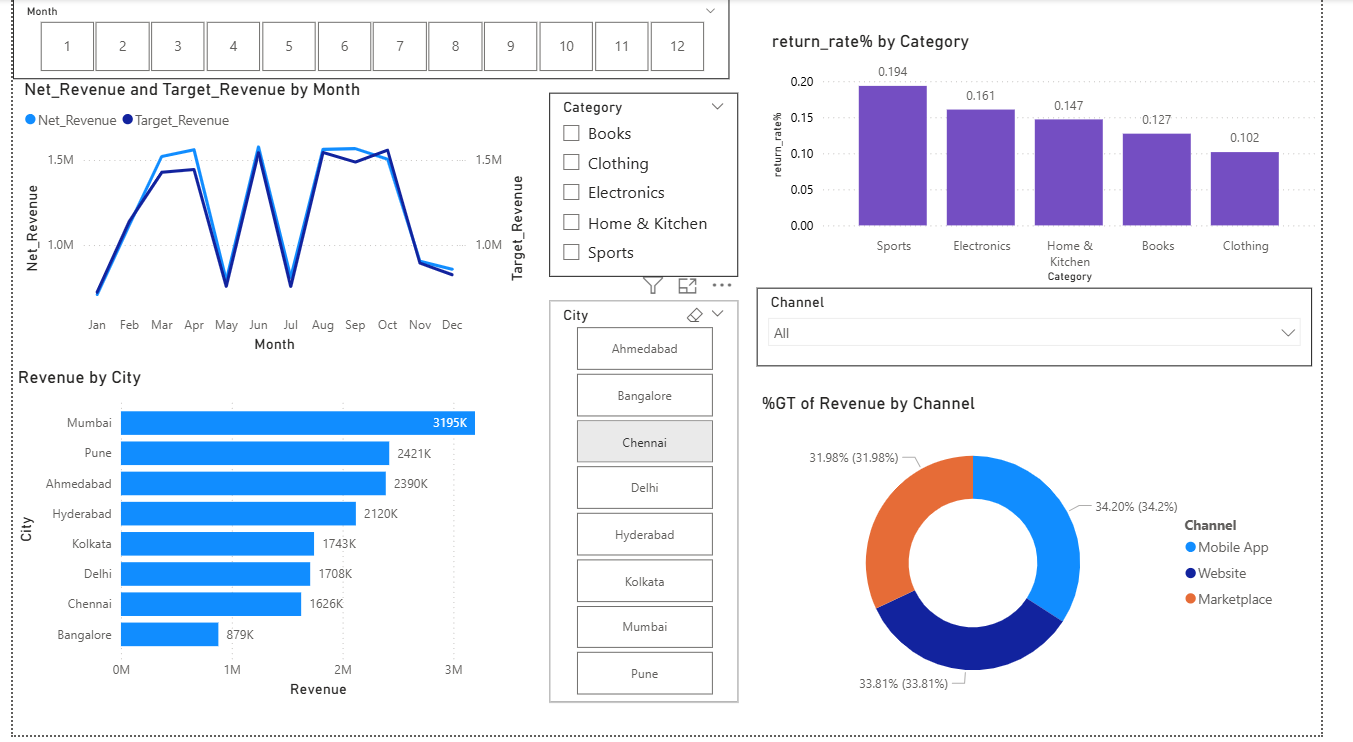

The page's visual inventory and layout, read from the dashboard file:
{"tool":"powerbi","page":{"name":"Page 1","canvas":[1280,720],"ordinal":0},"visuals":[{"type":"lineChart","fields":{"Category":["E_COMMERCE SQL.Month"],"Y":["Sum(E_COMMERCE SQL.Net_Revenue)"],"Y2":["Sum(E_COMMERCE SQL.Target_Revenue)"]},"box":[6.1,78.3,500.1,272.7],"z":0},{"type":"barChart","fields":{"Category":["E_COMMERCE SQL.City"],"Y":["Sum(E_COMMERCE SQL.Revenue)"]},"box":[0,359.5,506.3,328.9],"z":1000},{"type":"columnChart","fields":{"Category":["E_COMMERCE SQL.Category"],"Y":["E_COMMERCE SQL.return_rate%"]},"box":[737.4,30.6,542.9,251.9],"z":2000},{"type":"donutChart","fields":{"Category":["E_COMMERCE SQL.Channel"],"Y":["Sum(E_COMMERCE SQL.Revenue)"]},"box":[727.6,385.2,518.5,314.3],"z":3000},{"type":"slicer","fields":{"Values":["E_COMMERCE SQL.City"]},"box":[524.6,294.7,184.6,393.8],"z":3001},{"type":"slicer","fields":{"Values":["E_COMMERCE SQL.Category"]},"box":[524.6,91.7,184.6,179.8],"z":3002},{"type":"slicer","fields":{"Values":["E_COMMERCE SQL.Channel"]},"box":[727.6,282.5,542.9,77],"z":3003},{"type":"slicer","fields":{"Values":["E_COMMERCE SQL.Month_No"]},"box":[0,0,700.7,78.3],"z":3004}]}

Visuals, with their boxes in screenshot pixels (x1, y1, x2, y2), scaled from the page's 1280x720 canvas onto the 1353x742 screenshot:
lineChart - E_COMMERCE SQL.Month x Sum(E_COMMERCE SQL.Net_Revenue): region(6, 81, 535, 362)
barChart - E_COMMERCE SQL.City x Sum(E_COMMERCE SQL.Revenue): region(0, 370, 535, 709)
columnChart - E_COMMERCE SQL.Category x E_COMMERCE SQL.return_rate%: region(779, 32, 1352, 291)
donutChart - E_COMMERCE SQL.Channel x Sum(E_COMMERCE SQL.Revenue): region(769, 397, 1317, 721)
slicer - E_COMMERCE SQL.City: region(555, 304, 750, 710)
slicer - E_COMMERCE SQL.Category: region(555, 95, 750, 280)
slicer - E_COMMERCE SQL.Channel: region(769, 291, 1343, 370)
slicer - E_COMMERCE SQL.Month_No: region(0, 0, 741, 81)
